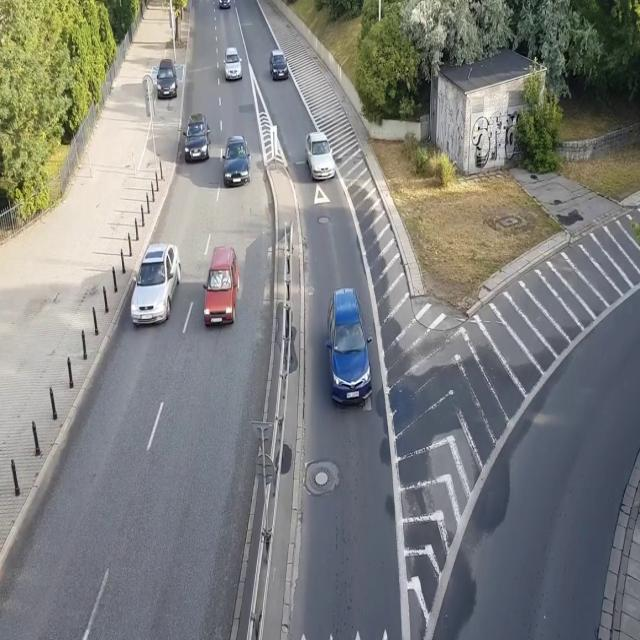car: (325, 285, 372, 412), (129, 240, 182, 328), (202, 242, 240, 330), (222, 133, 251, 188), (305, 132, 336, 183), (181, 114, 211, 164), (155, 55, 178, 101), (224, 45, 243, 81), (270, 50, 289, 81), (218, 0, 231, 11)
